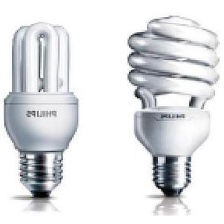light_bulb: (124, 11, 224, 200), (0, 20, 80, 203)
